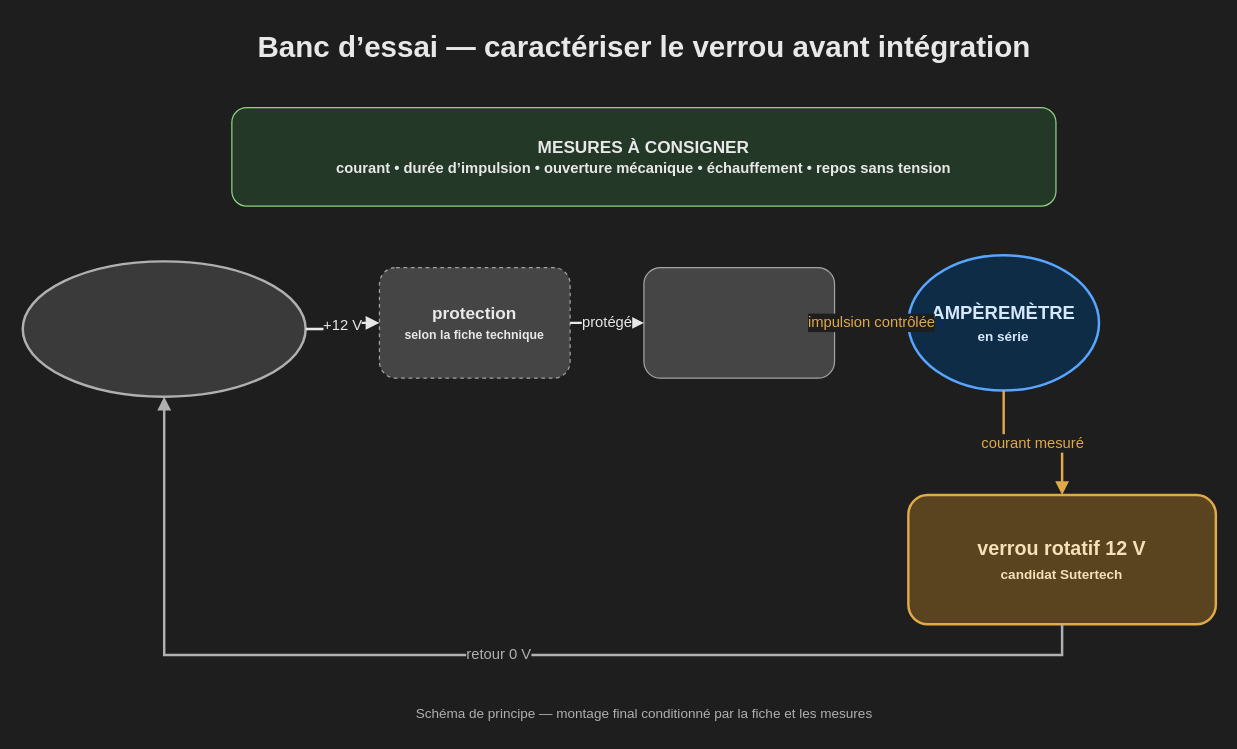
Some shapes in this 1237 by 749 pixel diagram are drawn without their labels. The shapes that lost their labels are listed below. From the top down, each one's centre as x and y in pixels, then its label:
point (163, 328): alimentation 12 V limitée et adaptée au composant
point (739, 322): interrupteur momentané
